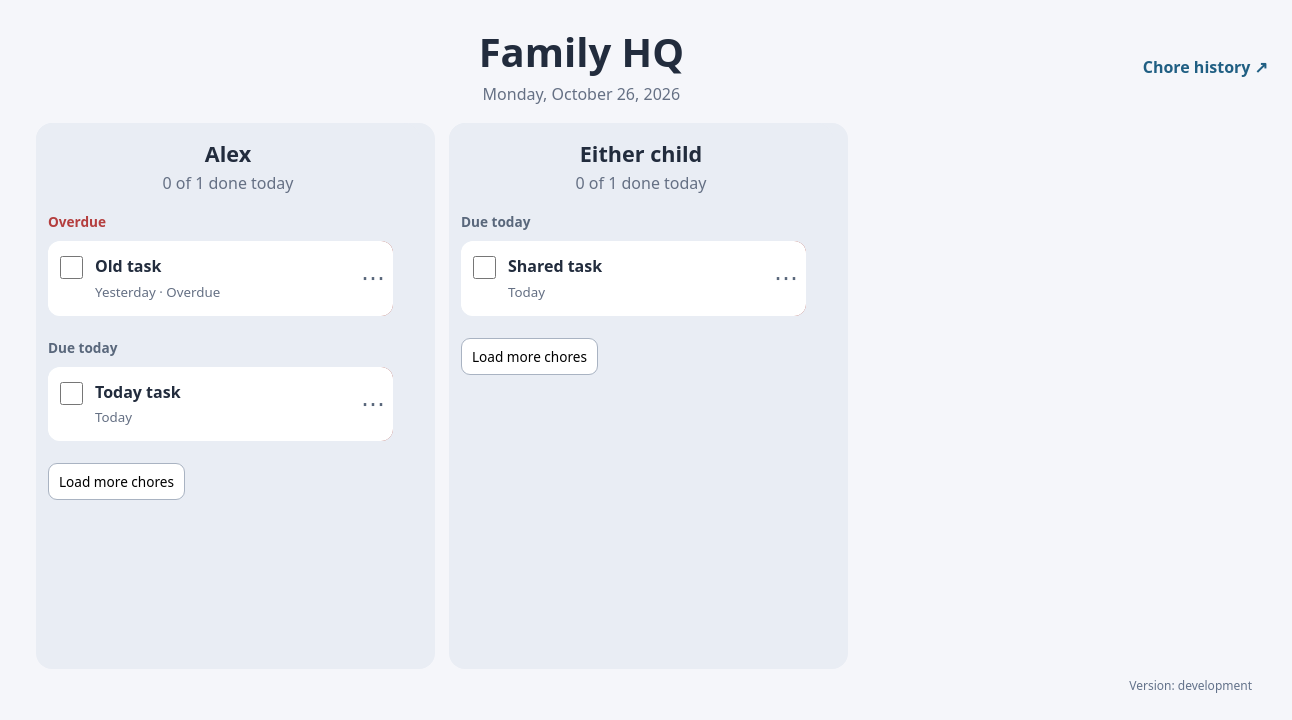
Test case: dashboard skip handler › saves a daily skip, preserves its row and supports undo
expect the text "Today task" is shown: met, box [95,382,181,403]
Click the button "⋯" in the row of "Today task" at (373, 404), box [353,380,393,428]
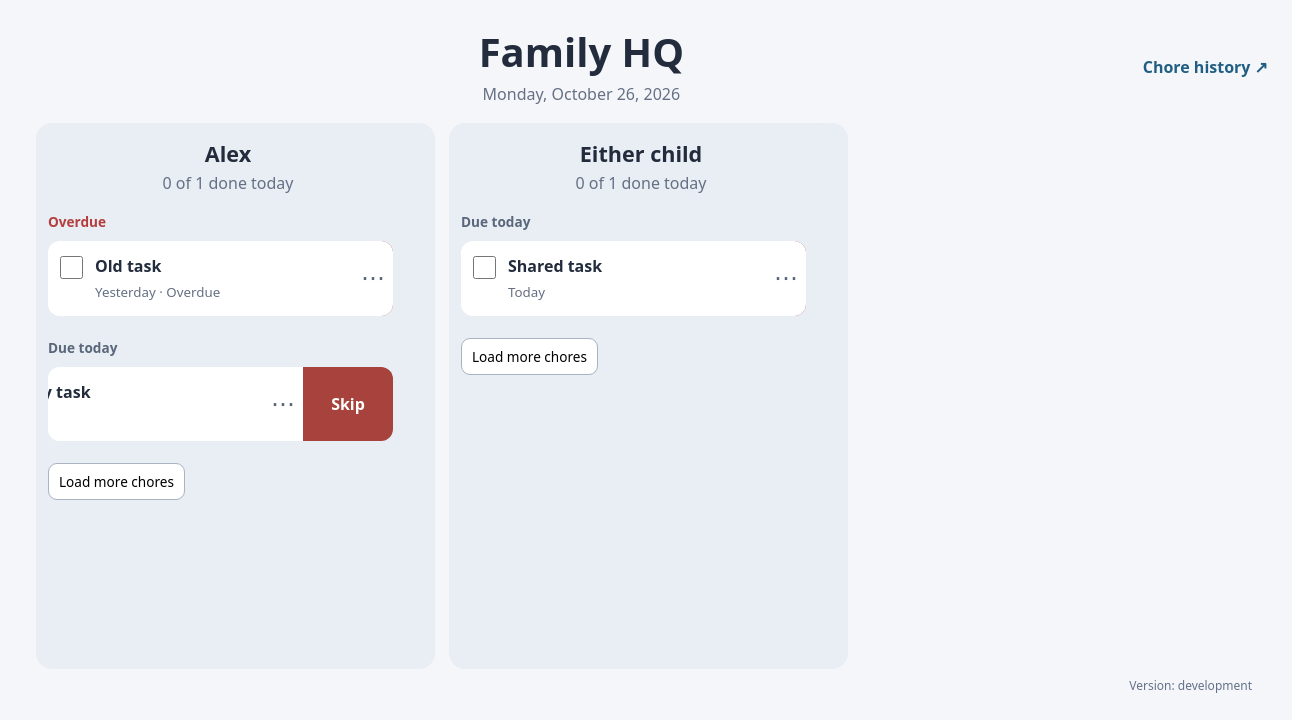
Click the button with class "swipe-action" in the row of "Today task" at (348, 404), box [303,367,393,441]
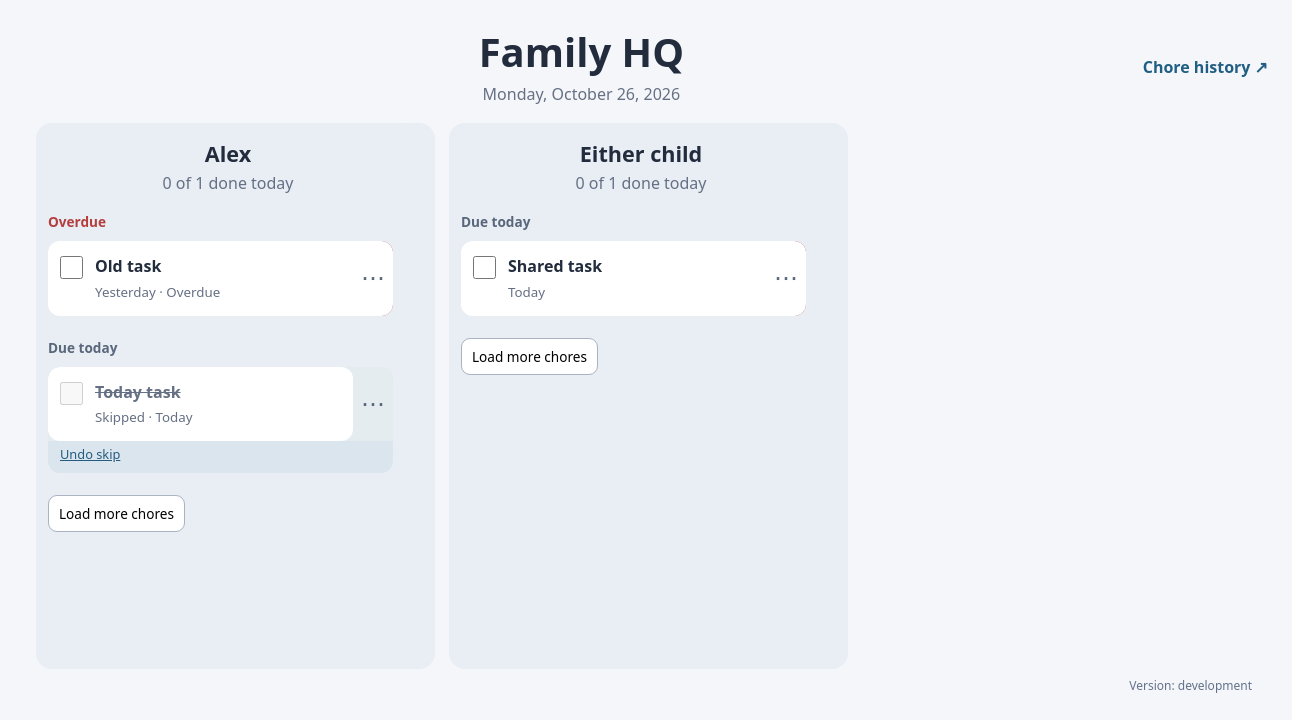
expect the text "Skipped · Today" is shown: met, box [95,408,192,426]
Click the button "Undo skip" at (90, 457), box [48,441,132,473]
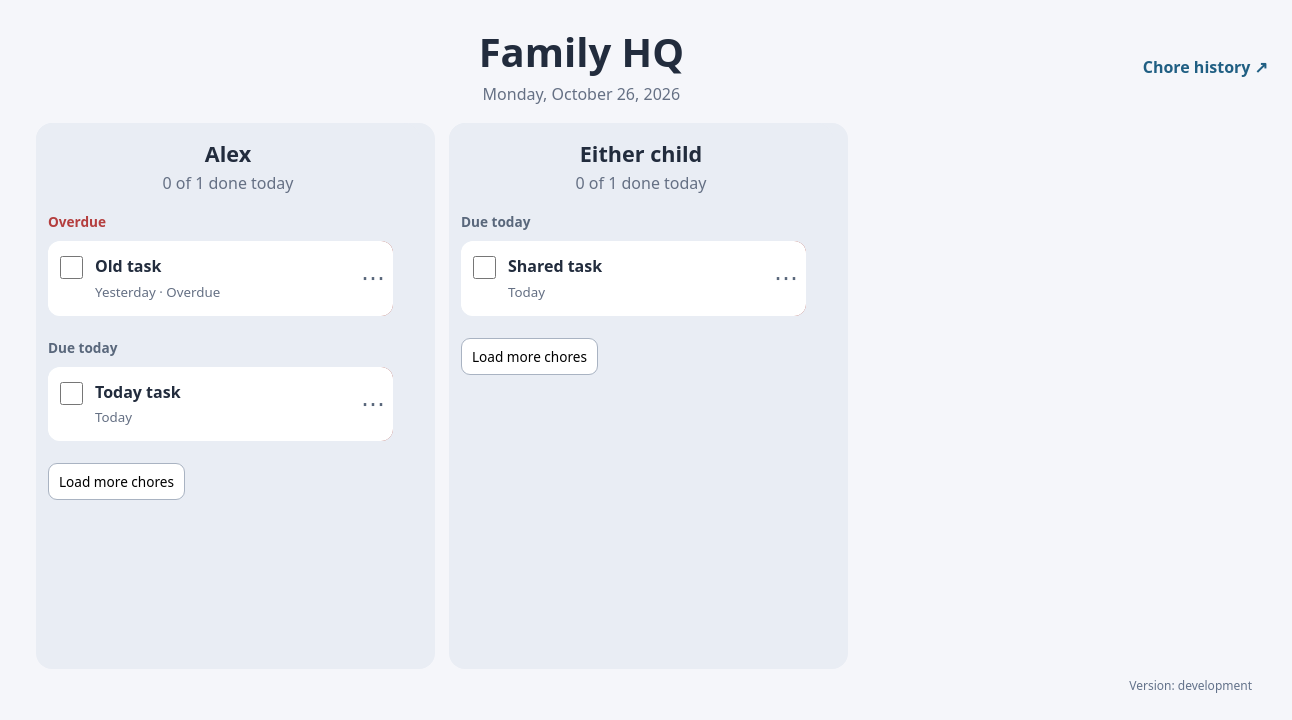
expect the text "Skipped · Today" is gone: met
